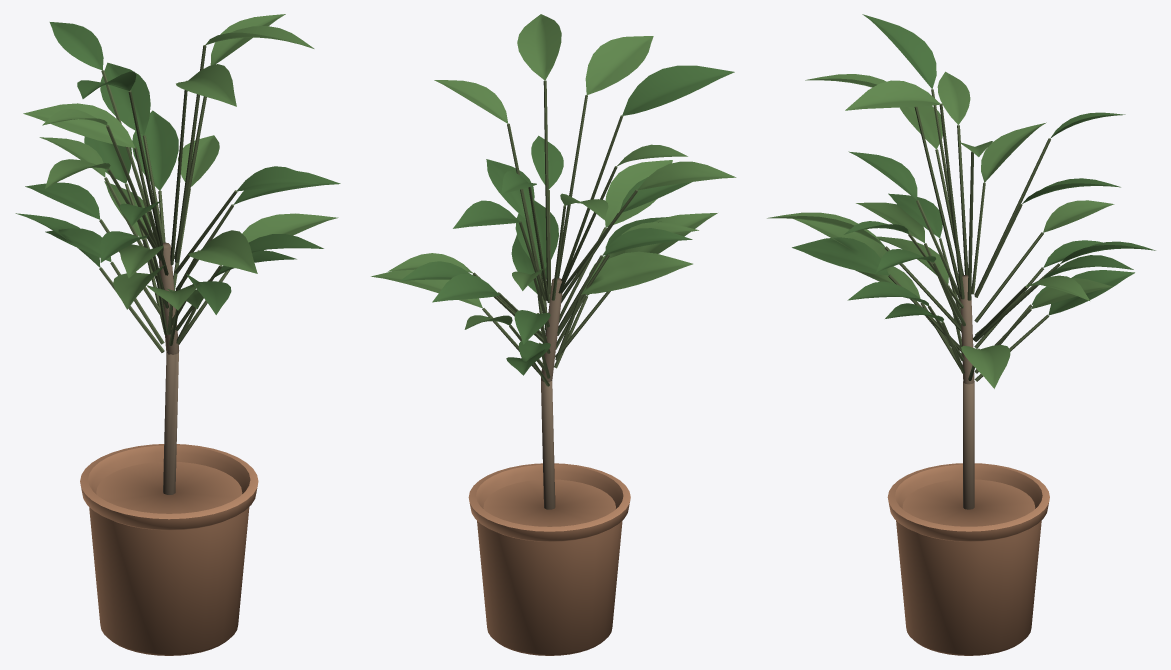
File: plant.glb
3 views of the same model, side by side, from view 1: azimuth 30°, elevation 25°; view 2: azimuth 150°, elevation 25°; view 3: azimuth 270°, elevation 25° (orthographic). The views are drawn at different scales.
Parts seen in each view (by area): view 1: p_plant; view 2: p_plant; view 3: p_plant.
Part boxes in pixels (bbox=[...]): p_plant: bbox=[15, 14, 340, 655]; p_plant: bbox=[371, 14, 736, 655]; p_plant: bbox=[767, 14, 1155, 655].
Size of the model in its own units: 0.9931 by 1.69 by 1.06.
